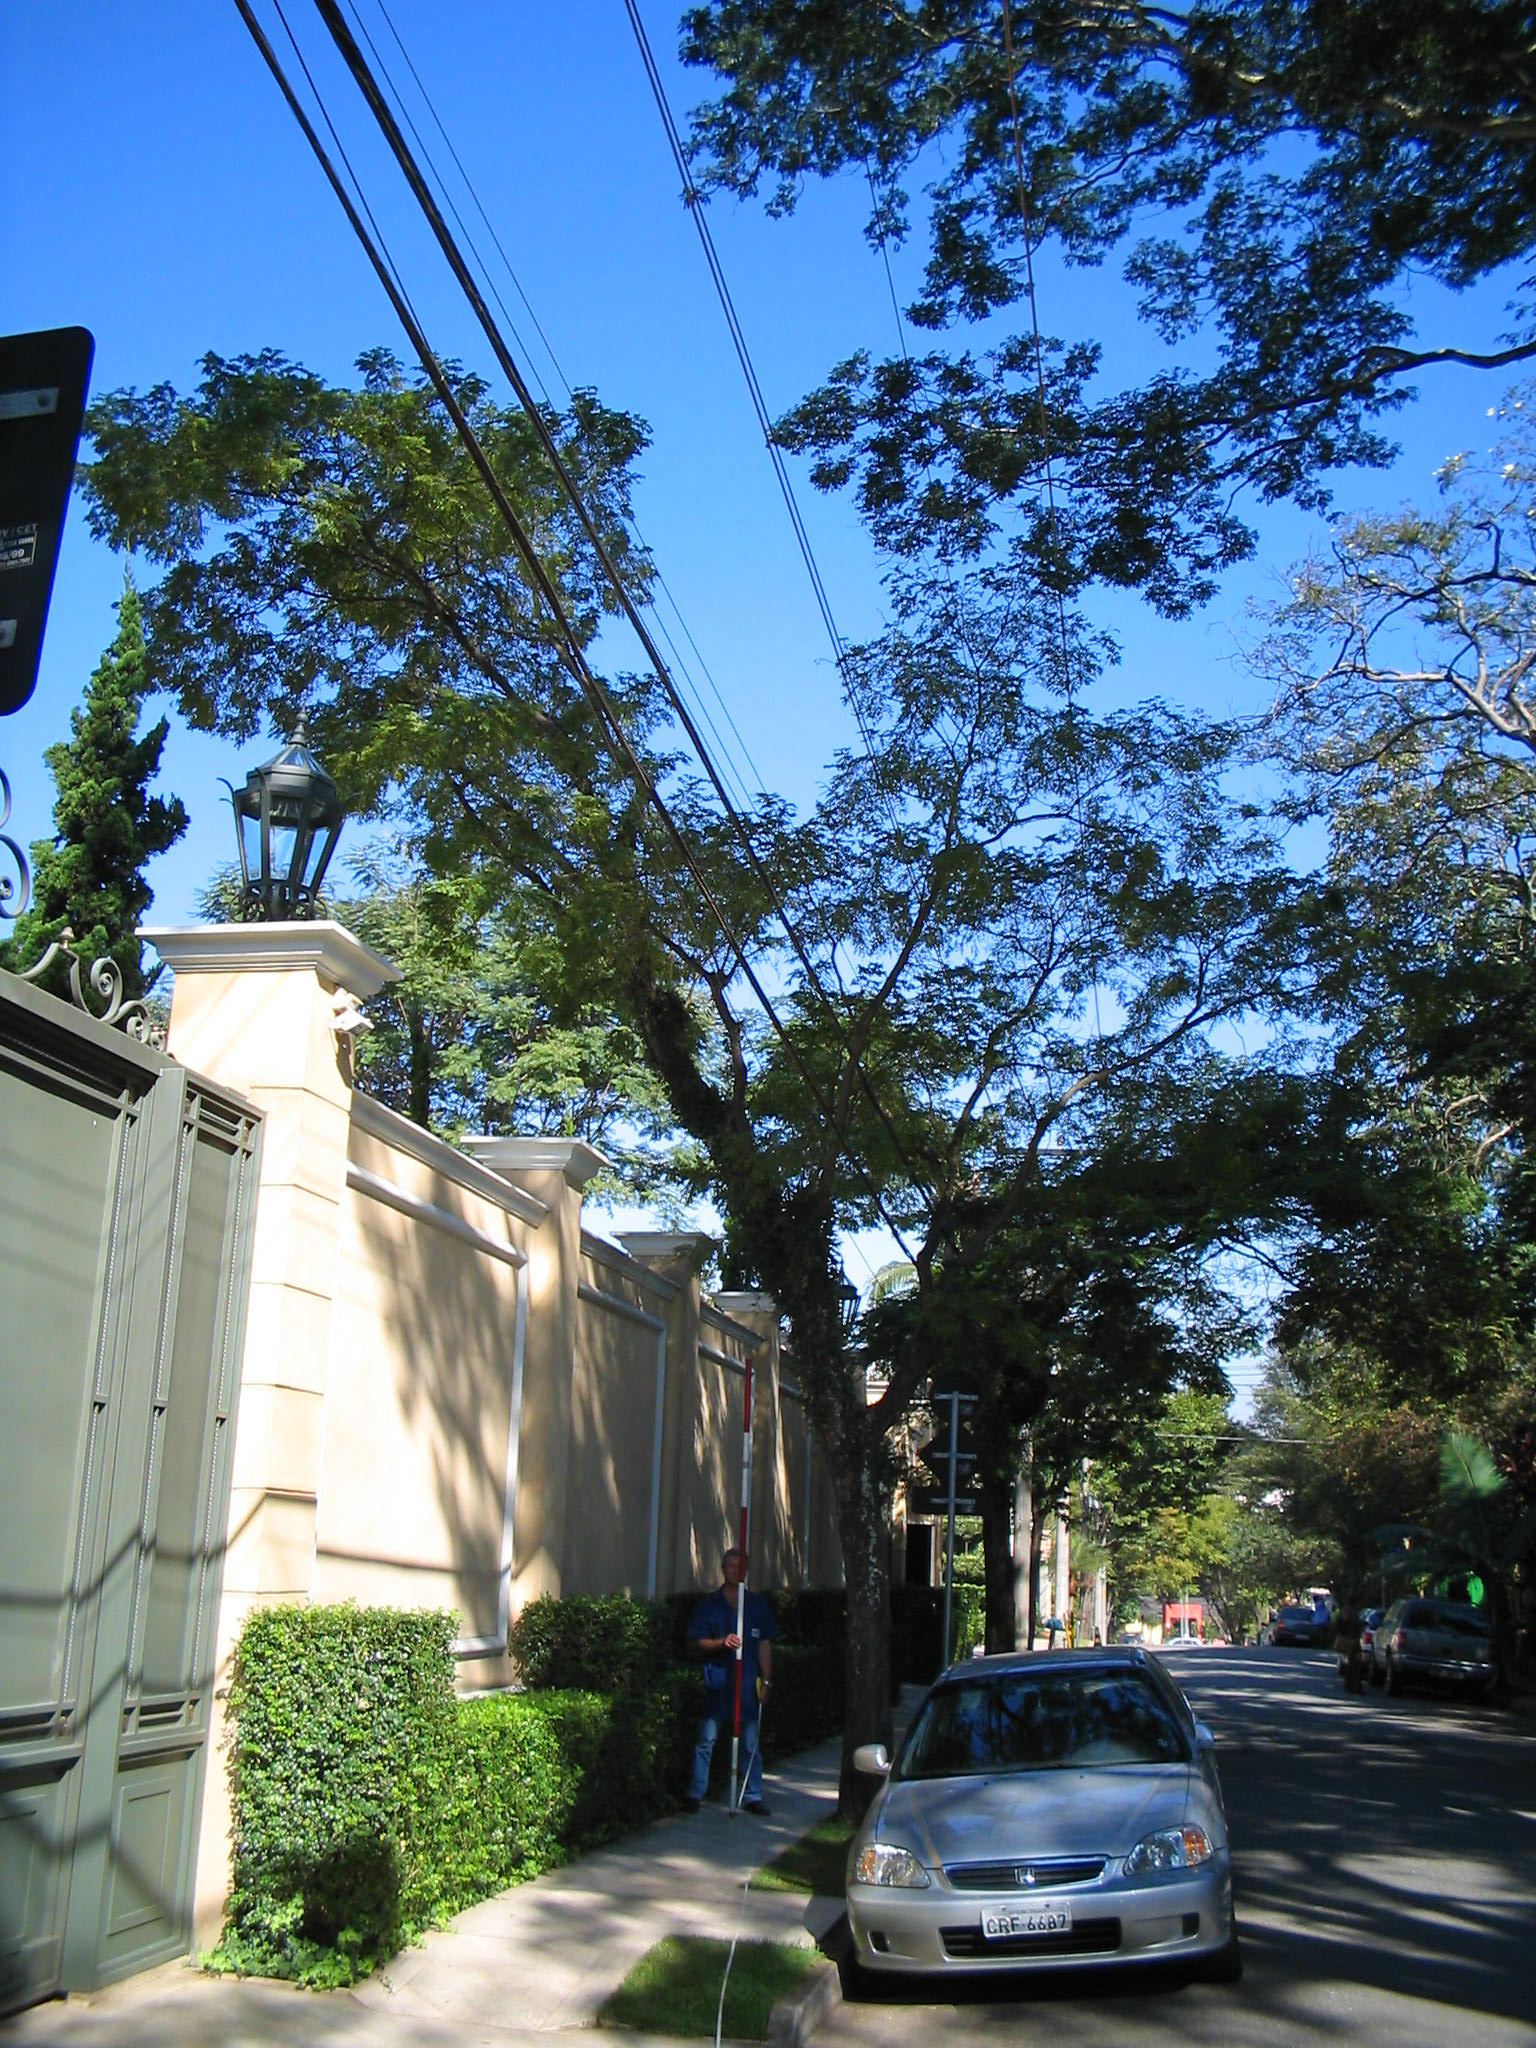stem: (799, 1432, 912, 1825)
stick: (715, 1361, 766, 1817)
tree: (461, 674, 1244, 1825)
